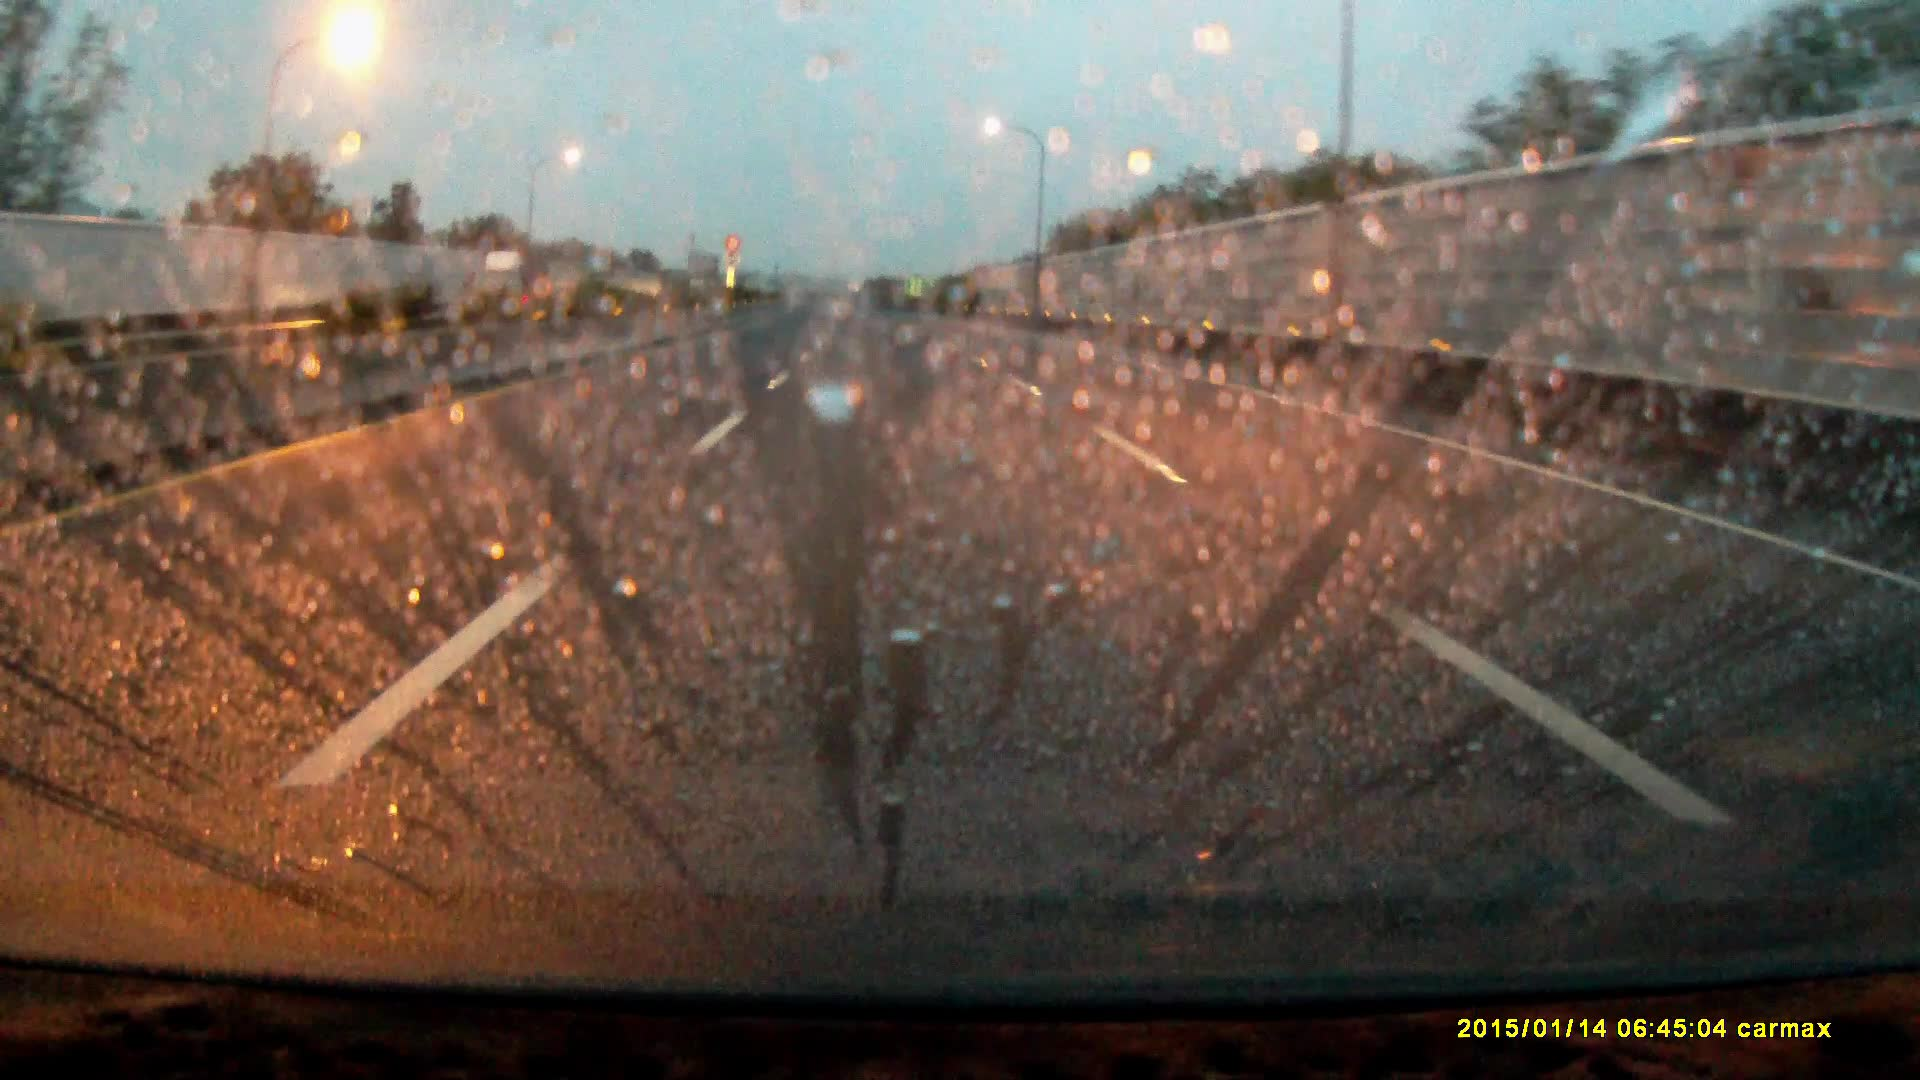vehicle: (480, 252, 551, 313)
